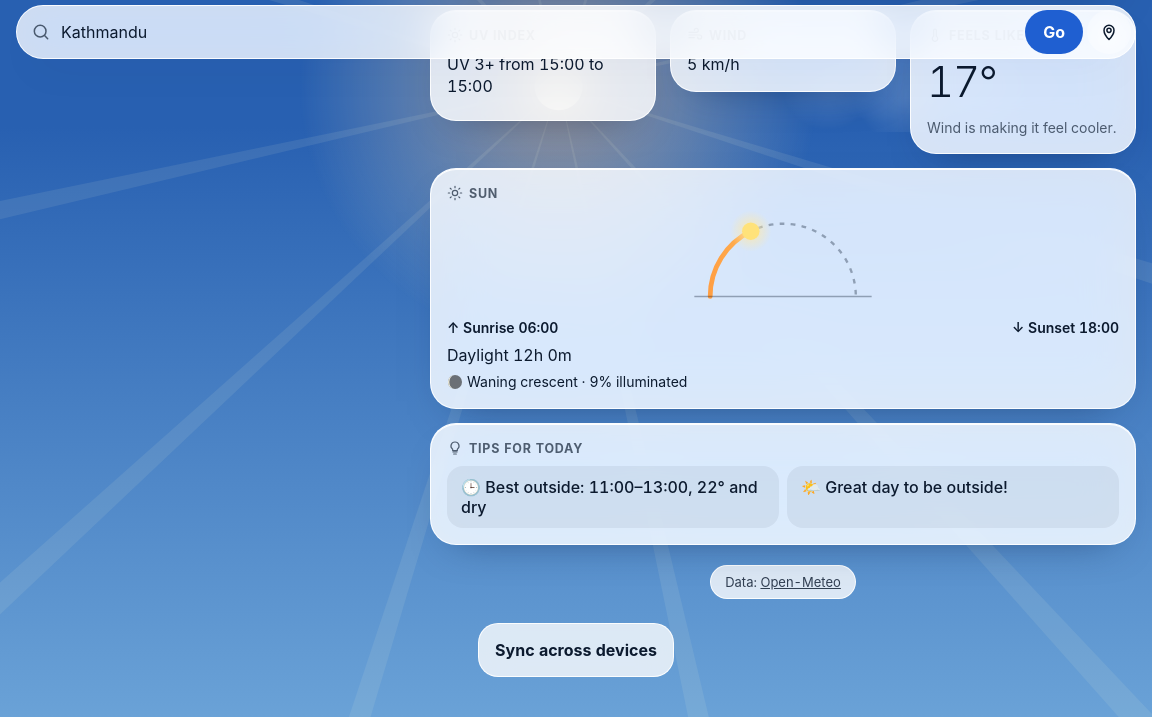
Test: sync panel › rejects an invalid code from another device
(page scrolled)
Click the heading "Sync across devices": (576, 650) x1=495 y1=640 x2=657 y2=660
(page scrolled)
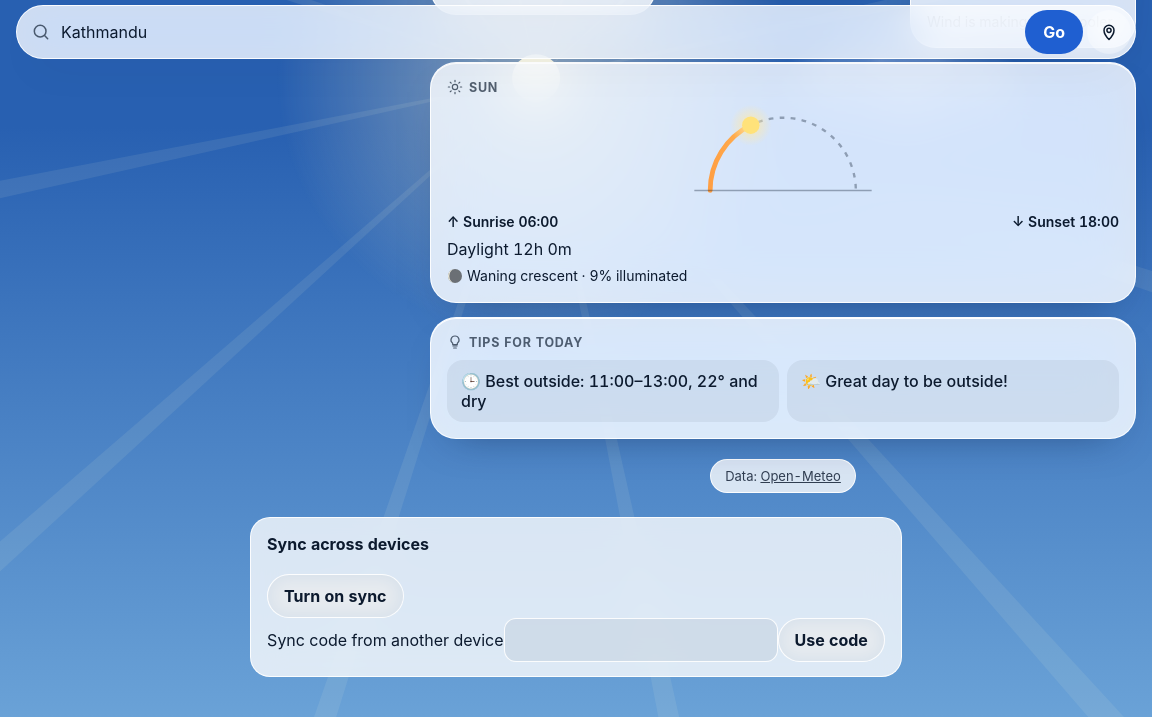
In the field labelled "Sync code from another device": (640, 640) x1=504 y1=618 x2=778 y2=662, type "nope"
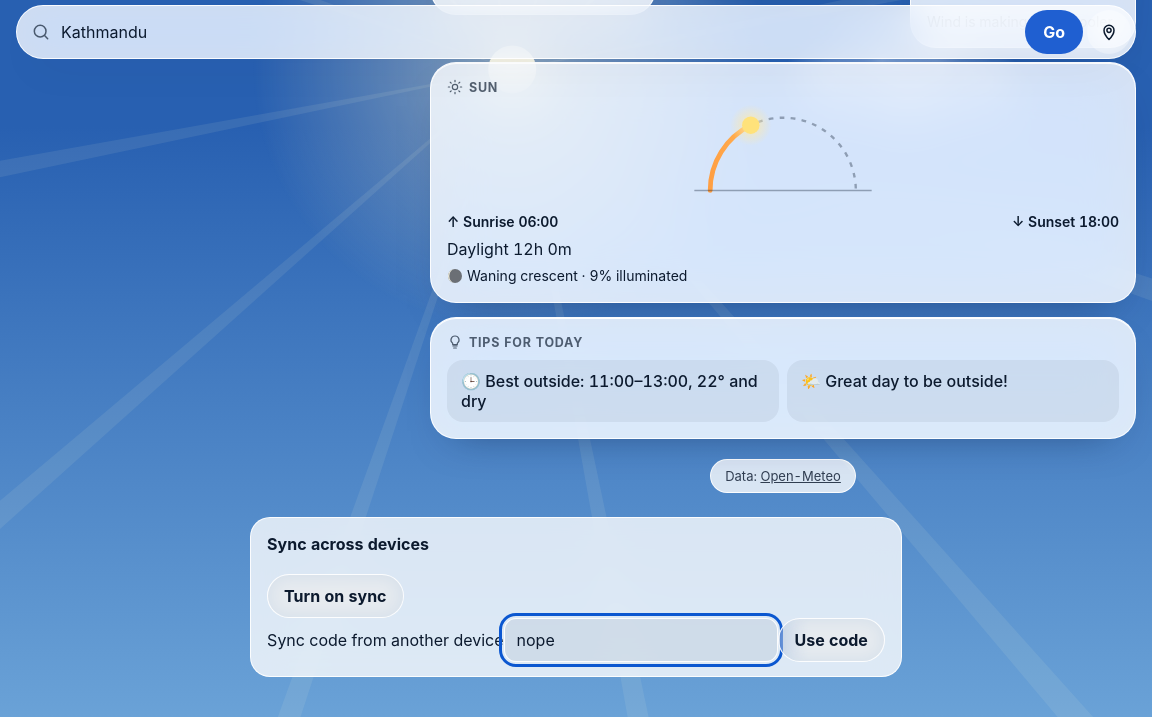
Click the button "Use code": (831, 640) x1=778 y1=618 x2=885 y2=662
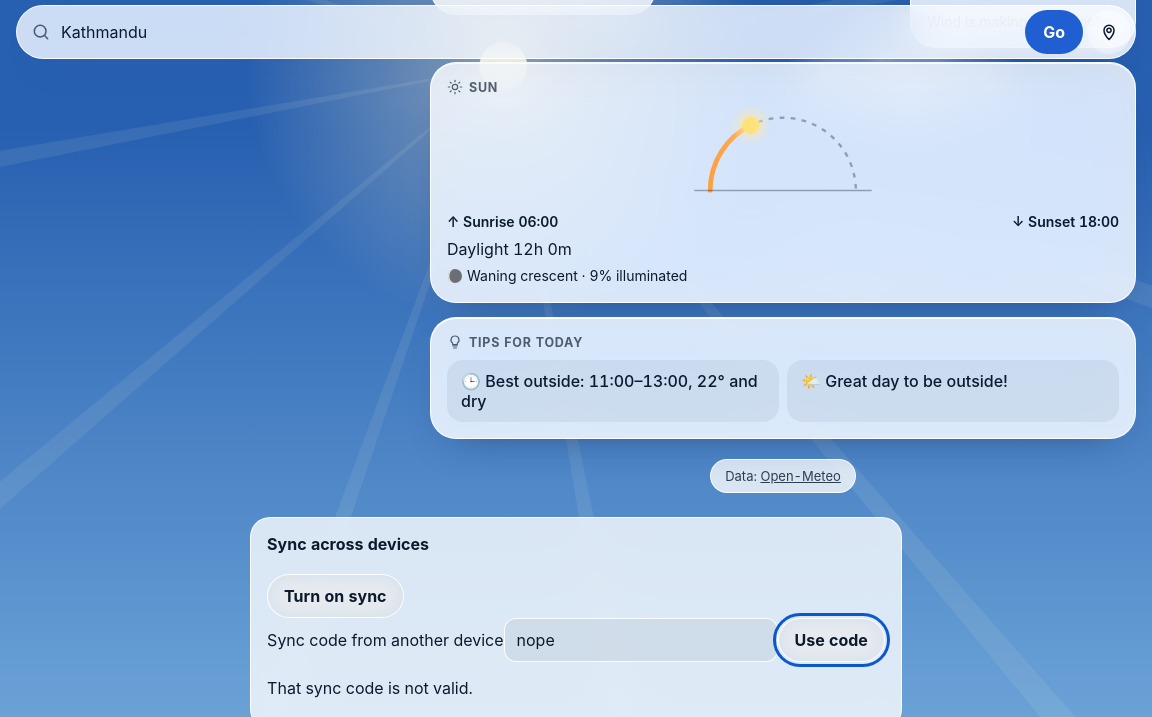
Expected: the message shows "not valid", x1=267 y1=678 x2=473 y2=698
